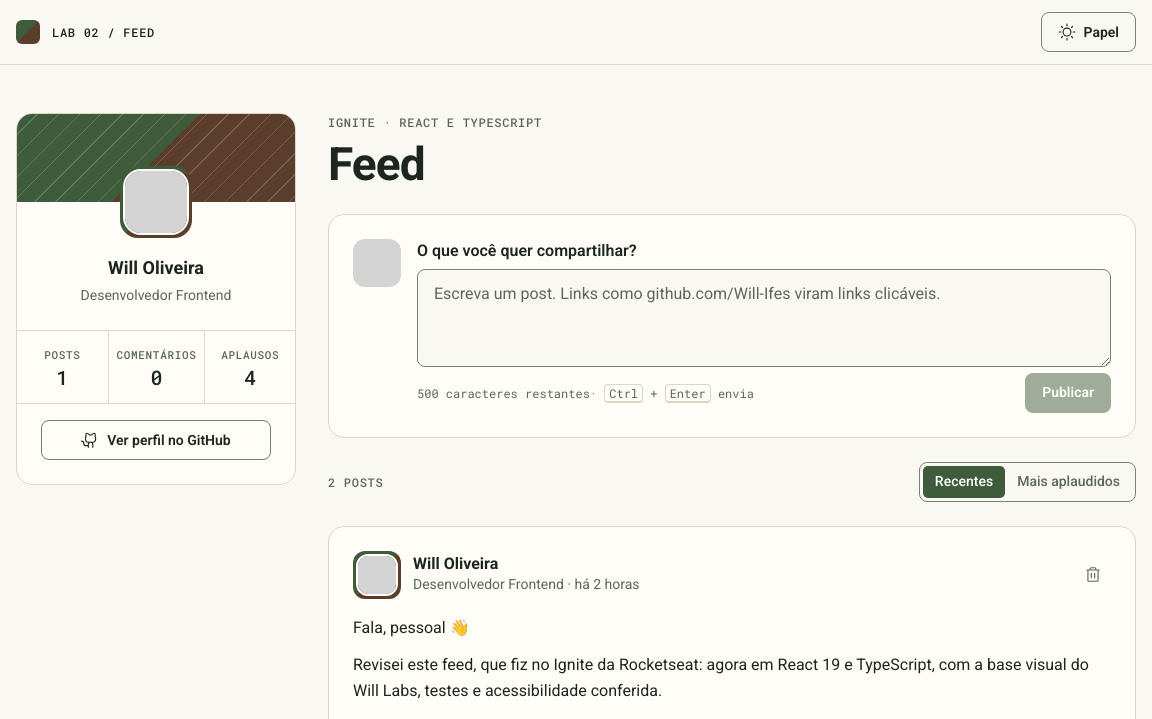
Test case: Feed › publica um post no topo e limpa o compositor
Expected: the button "Publicar" is disabled, [1025, 373, 1111, 413]
Type "Primeiro post do dia" into the text box labelled "O que você quer compartilhar?".
click(764, 318); type("Primeiro post do dia")  # box [417, 269, 1111, 367]
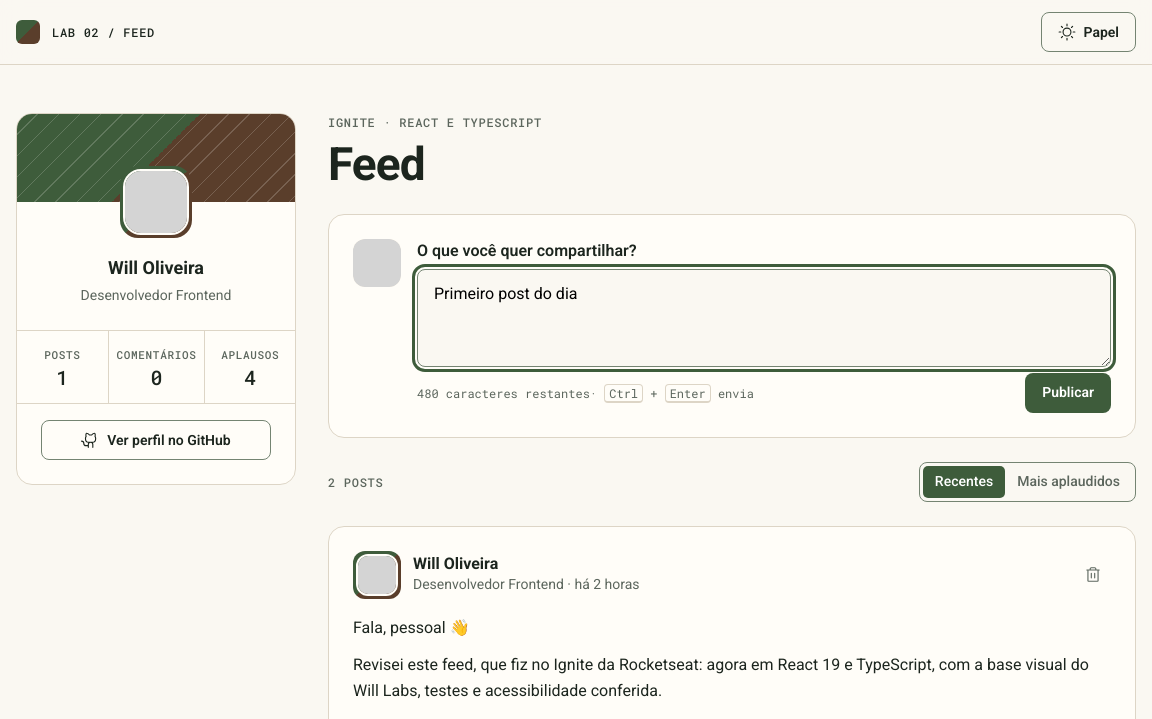
Click the button "Publicar".
click(1068, 393)  # box [1025, 373, 1111, 413]
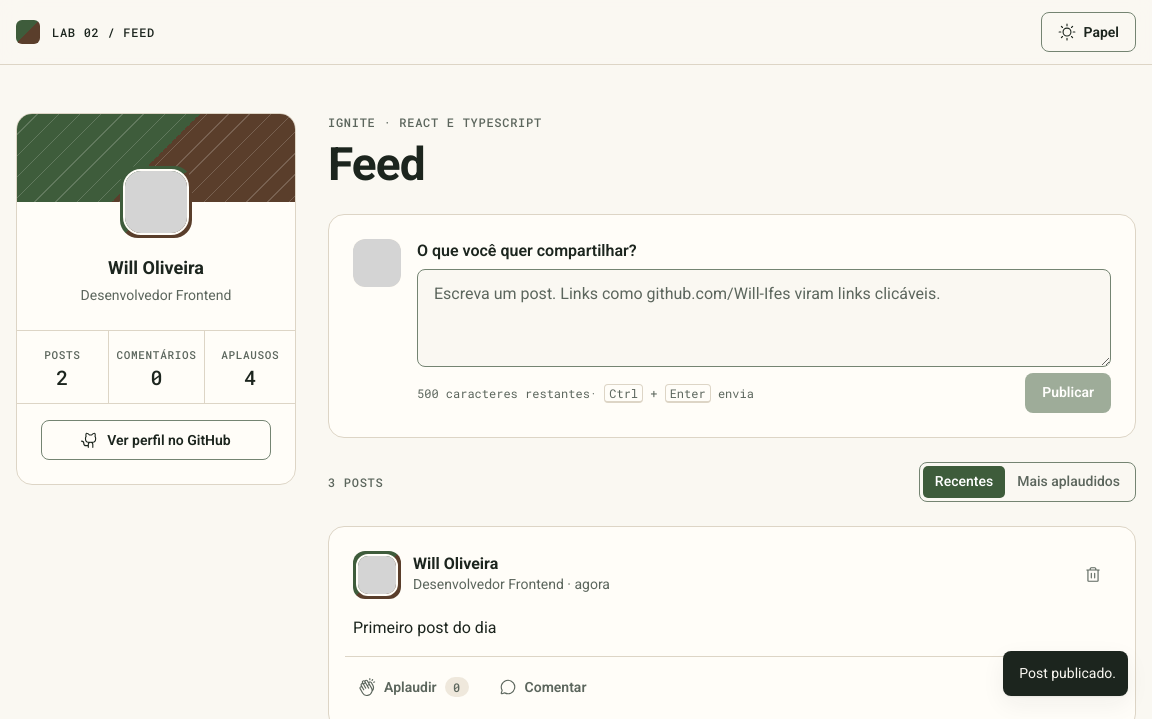
Expected: the text "Primeiro post do dia" is shown, [353, 618, 496, 637]
Expected: the text box labelled "O que você quer compartilhar?" is empty, [417, 269, 1111, 367]
